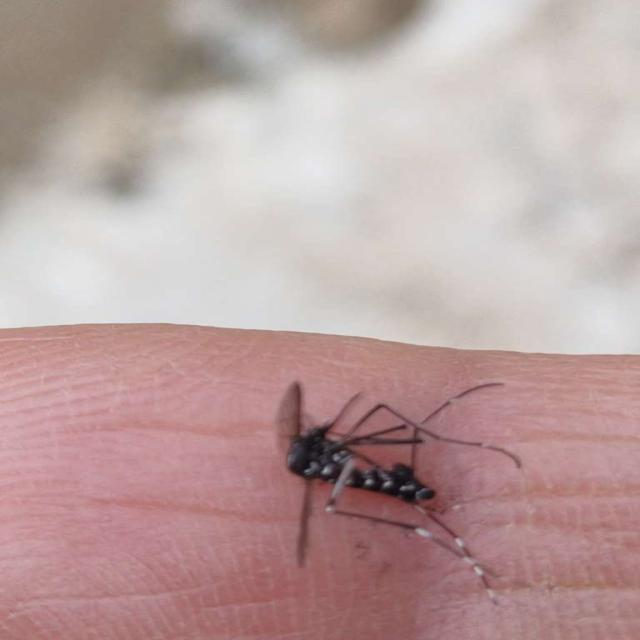albopictus: (250, 372, 532, 590)
